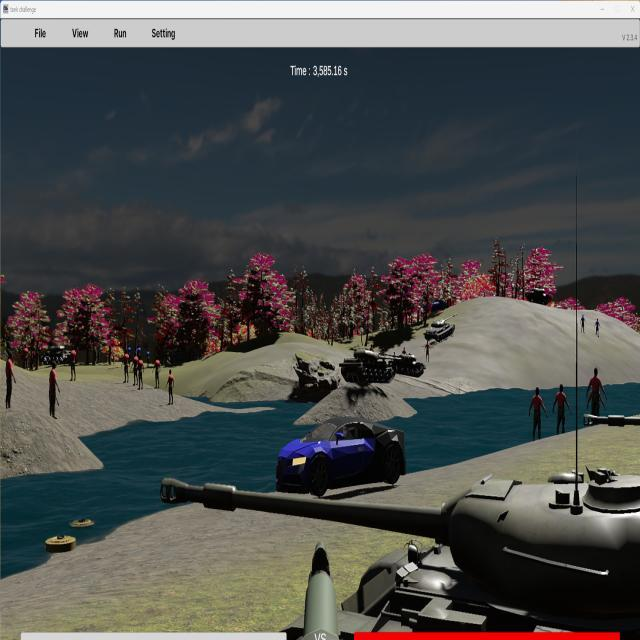Tank: (160, 469, 633, 640), (583, 389, 640, 523), (584, 393, 640, 512), (340, 348, 400, 383), (384, 352, 427, 378), (424, 313, 458, 342)
car: (275, 415, 407, 497)
